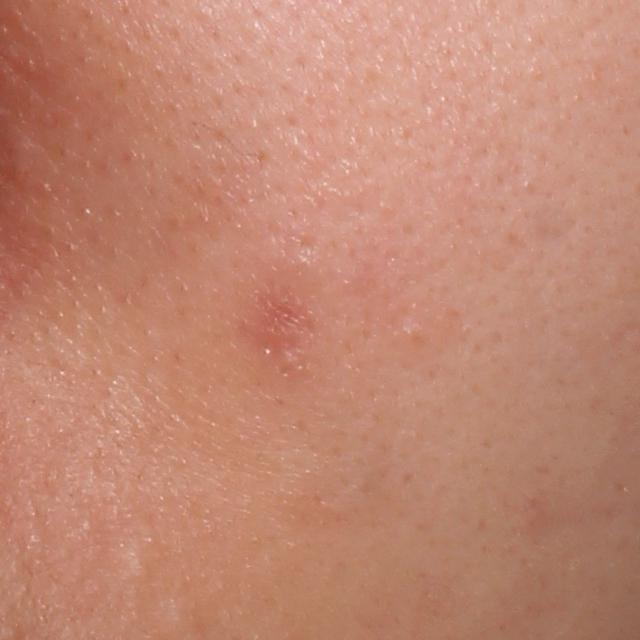comedo: (123, 551, 153, 578)
